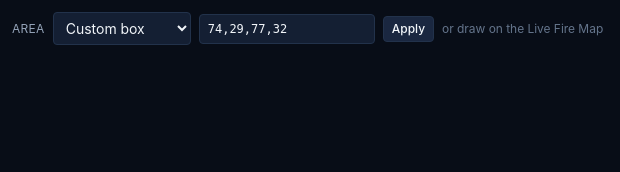
Test: region filter › refuses an invalid custom bounding box and applies a valid one
Later steps or results of the test are not shown.
Replace the text in the field named "West,South,East,North" with "77,29,74,32": (287,28) [199, 14, 375, 44]
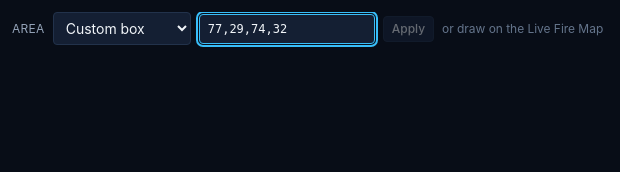
Expected: the button "Apply" is disabled, [383, 16, 434, 42]
Replace the text in the field named "West,South,East,North" with "75,30,76,31": (287,28) [199, 14, 375, 44]
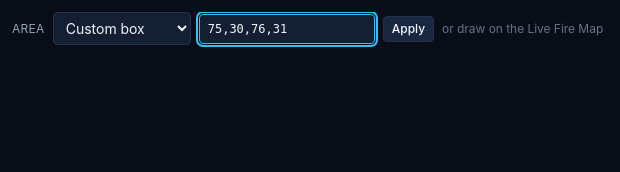
Expected: the button "Apply" is enabled, [383, 16, 434, 42]
